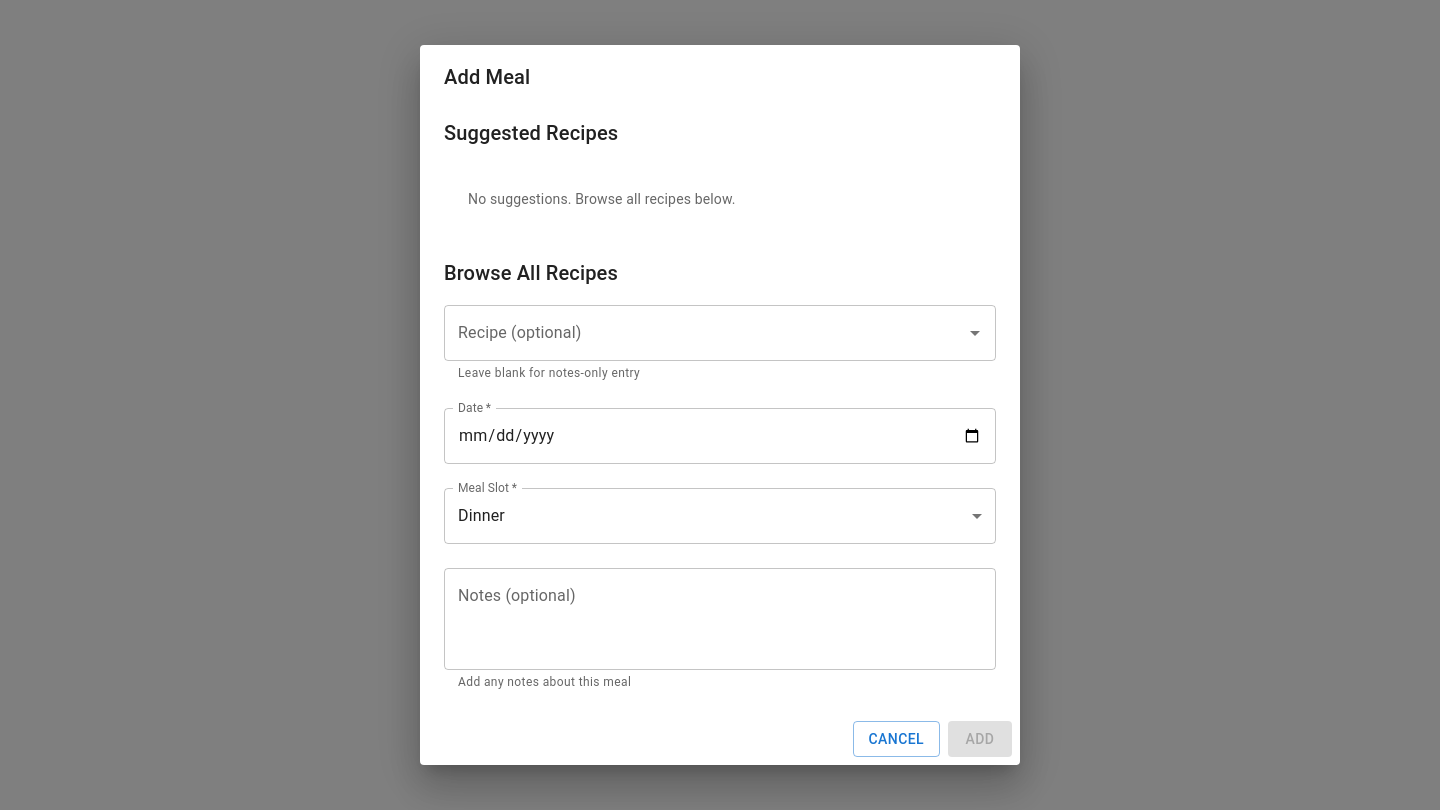
AddCalendarEntryDialog › should disable buttons while submitting
# Fill in date
Step 1. Type "2026-01-20" into the date field labelled "Date *" → (720, 436), box [444, 408, 996, 464]
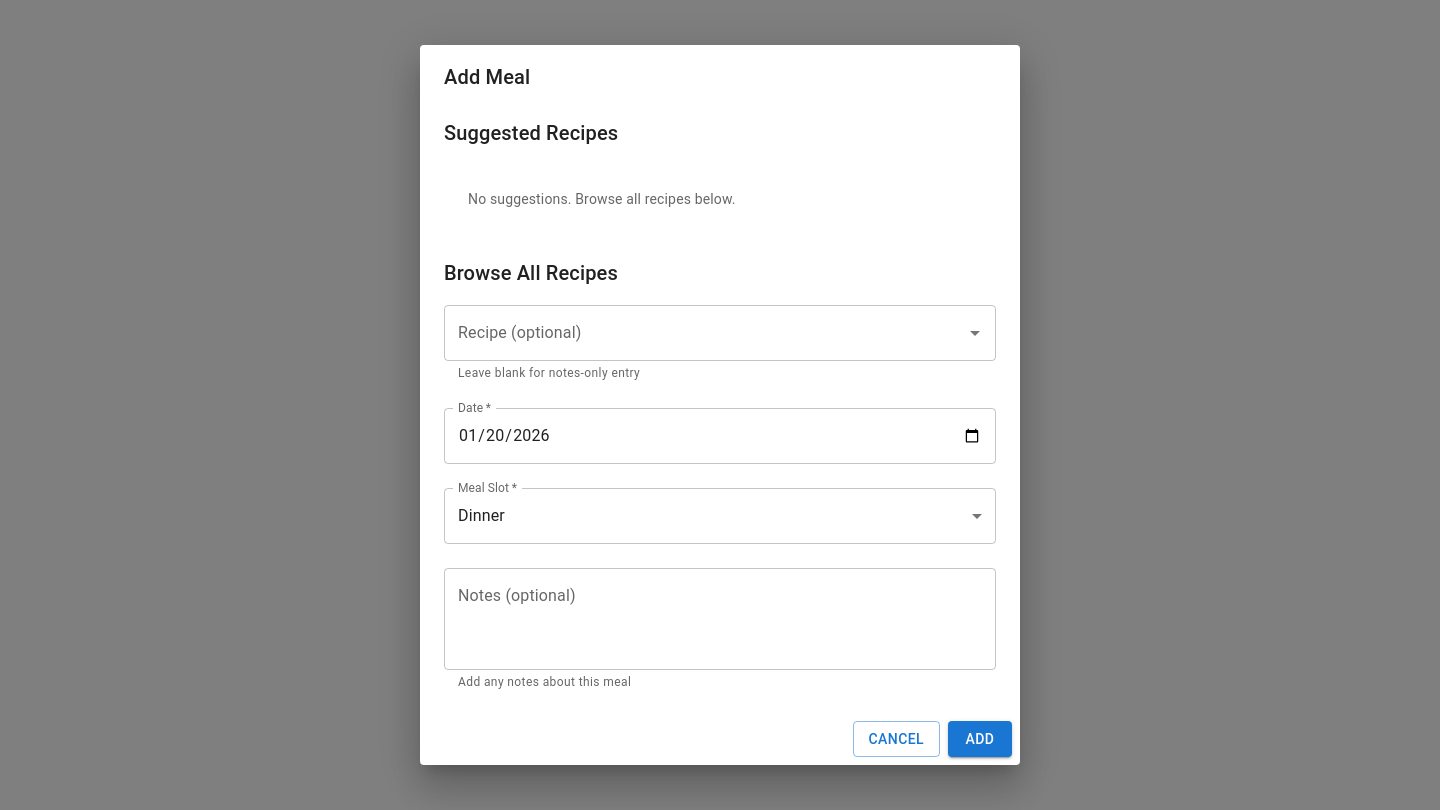
Now the button "Add" is enabled
Step 2. Click the button "Add" → (980, 739), box [948, 721, 1012, 757]
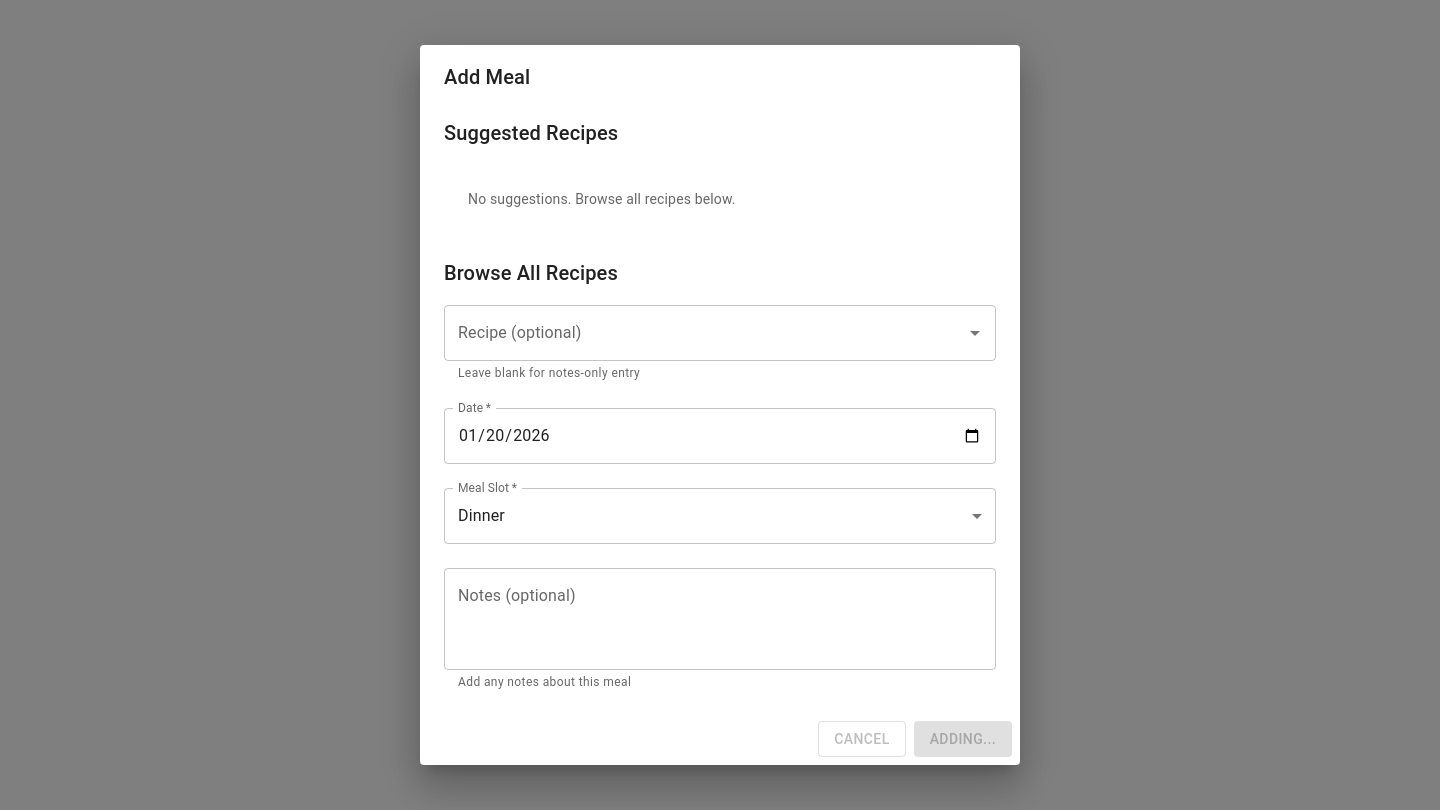
Now the button "Adding..." is disabled, box [914, 721, 1012, 757]
Now the button "Cancel" is disabled, box [818, 721, 906, 757]
